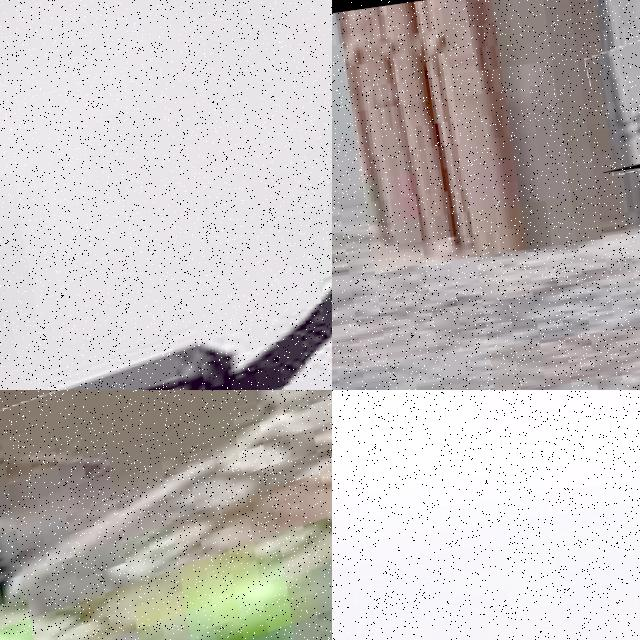drone: (0, 0, 332, 390), (0, 390, 332, 640), (585, 21, 640, 173)
